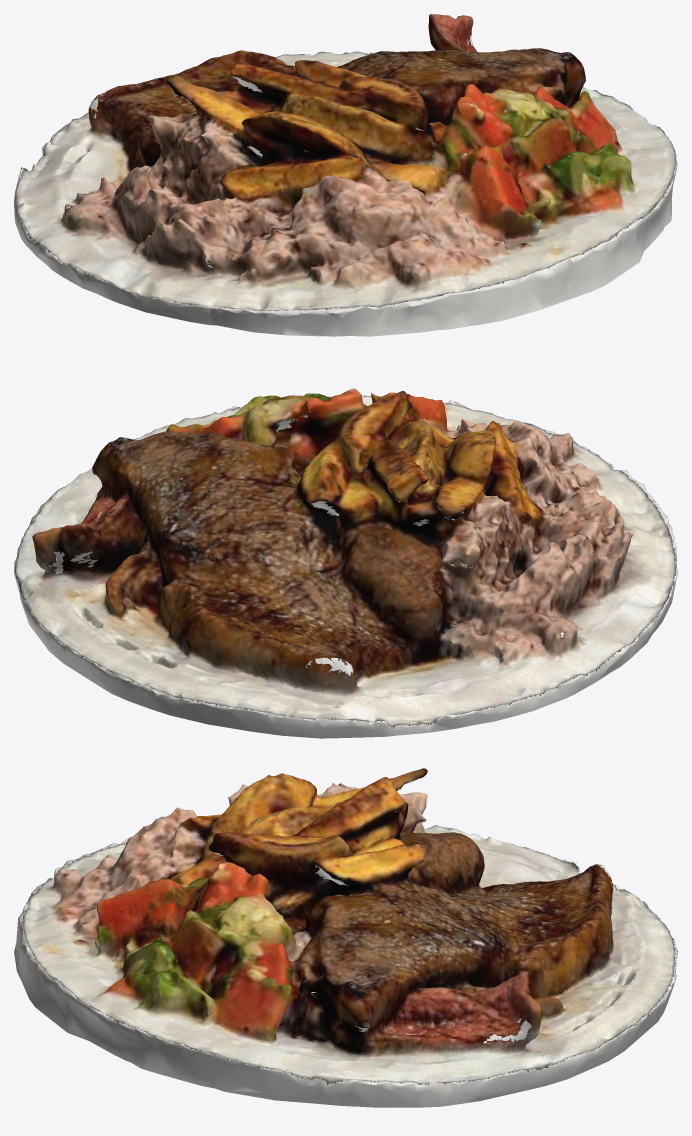
The model's file is picanha-executivo.glb.
3 renders of one model, top to bottom at view 1: azimuth 30°, elevation 25°; view 2: azimuth 150°, elevation 25°; view 3: azimuth 270°, elevation 25°, orthographic.
Parts seen in each view (by area): view 1: mesh_main_0; view 2: mesh_main_0; view 3: mesh_main_0.
Part boxes in pixels (bbox=[...]): mesh_main_0: bbox=[14, 14, 677, 336]; mesh_main_0: bbox=[14, 388, 677, 738]; mesh_main_0: bbox=[14, 768, 677, 1107].
Size of the model in its own units: 0.3181 by 0.0867 by 0.3206.
3 materials, 1 textured.
